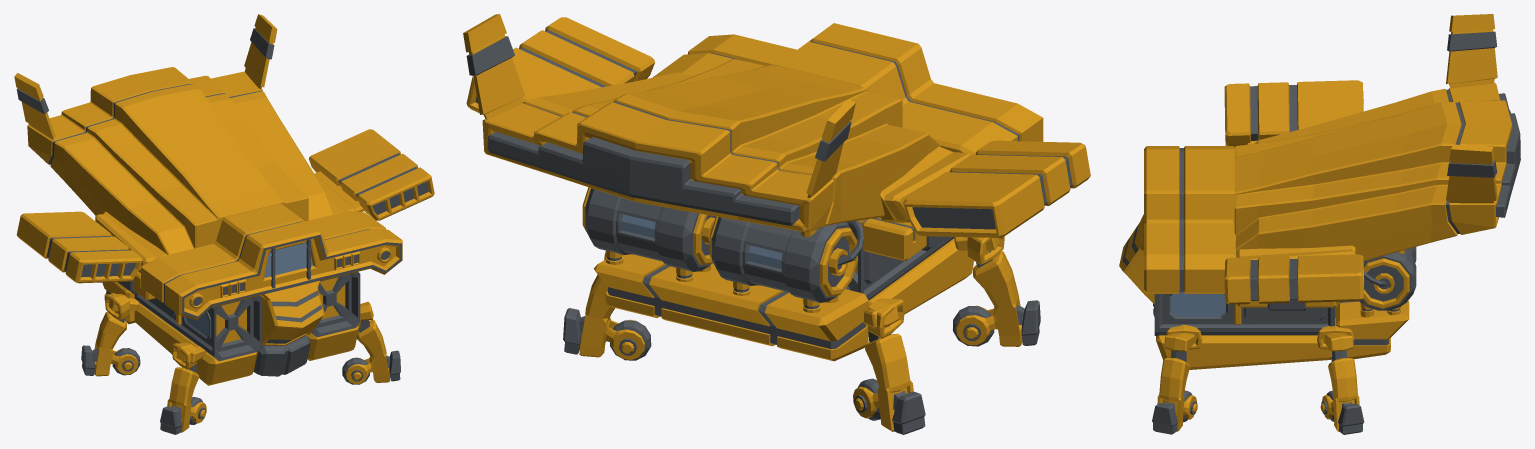
File: Dropship_01_Yellow.fbx
3 views of the same model, side by side, from view 1: azimuth 30°, elevation 25°; view 2: azimuth 150°, elevation 25°; view 3: azimuth 270°, elevation 25° (orthographic). The views are drawn at different scales.
Parts seen in each view (by area): view 1: Dropship_01_Yellow; view 2: Dropship_01_Yellow; view 3: Dropship_01_Yellow.
Boxes of the visible parts, x1,y1,x2,y2 form: Dropship_01_Yellow: (14, 14, 434, 434); Dropship_01_Yellow: (463, 14, 1090, 434); Dropship_01_Yellow: (1119, 14, 1520, 434).
Size of the model in its own units: 1915 by 1326 by 1633.
3 materials, 3 textured.
